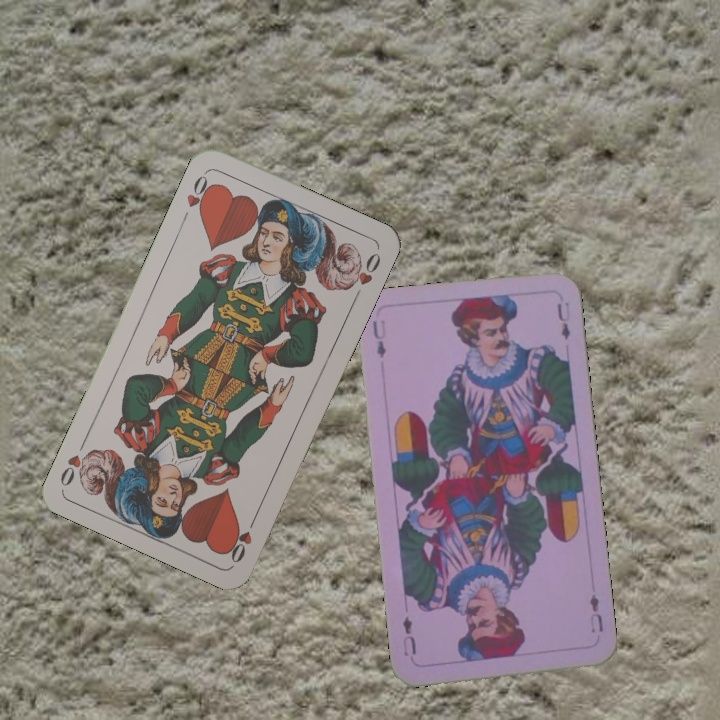EU: (368, 315, 389, 361), (585, 590, 606, 635)
HO: (178, 169, 216, 225), (224, 510, 260, 566)
